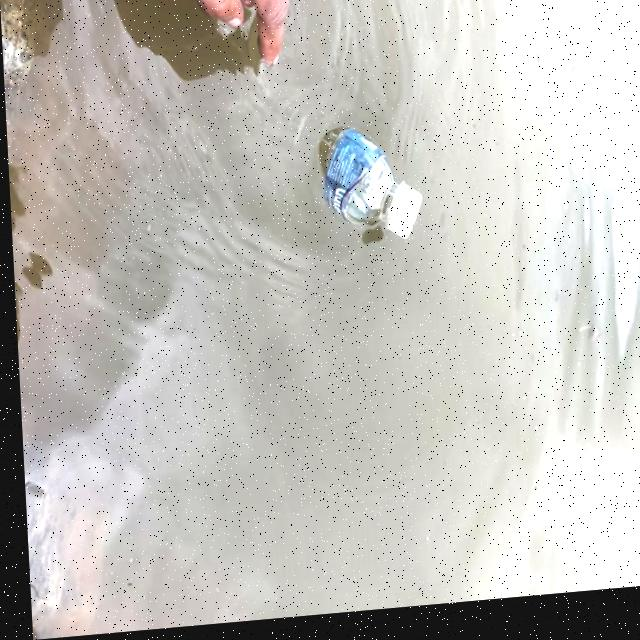waterbottle: (231, 59, 425, 291)
